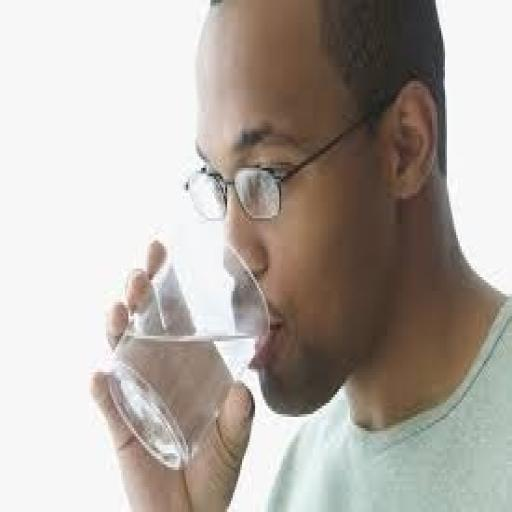drinking: (97, 238, 270, 470)
